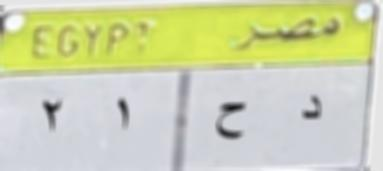1: (104, 90, 149, 138)
2: (27, 89, 75, 140)
7aa: (207, 93, 255, 148)
daal: (288, 87, 331, 126)
